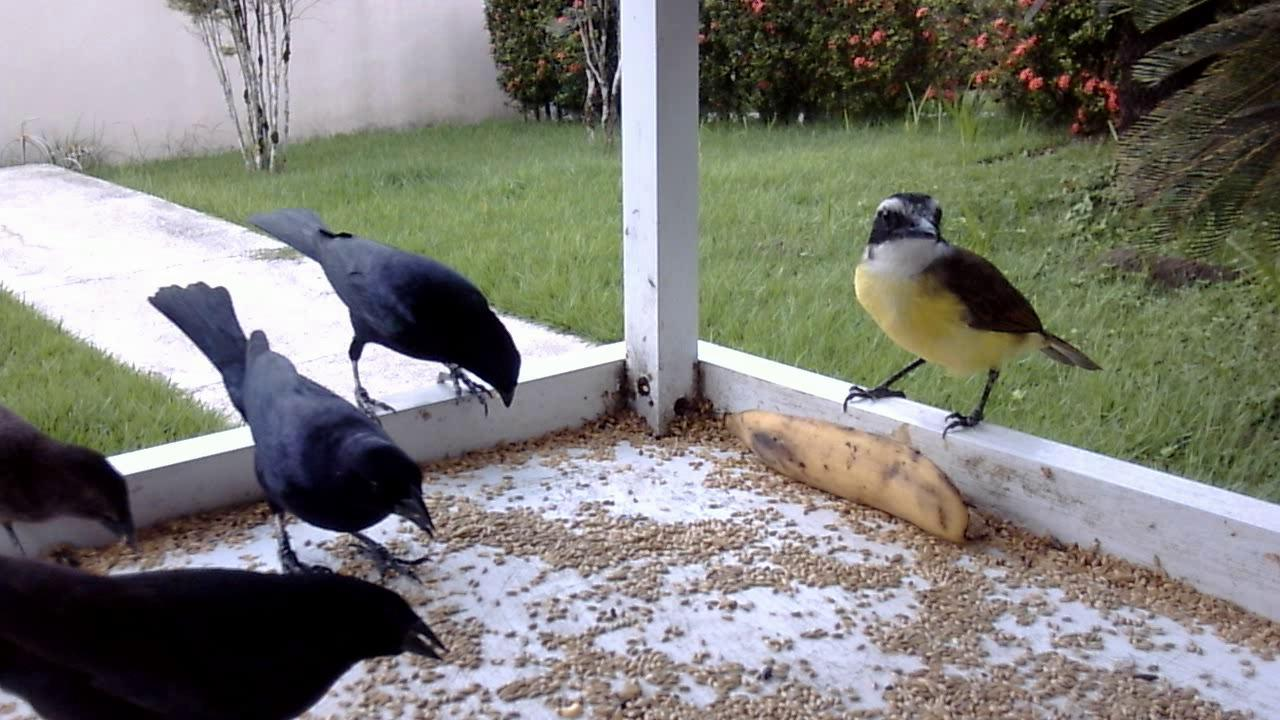bem_te_vi: (842, 188, 1108, 445)
chupim: (120, 282, 452, 594), (1, 553, 447, 720), (237, 204, 527, 425), (1, 405, 148, 559)
